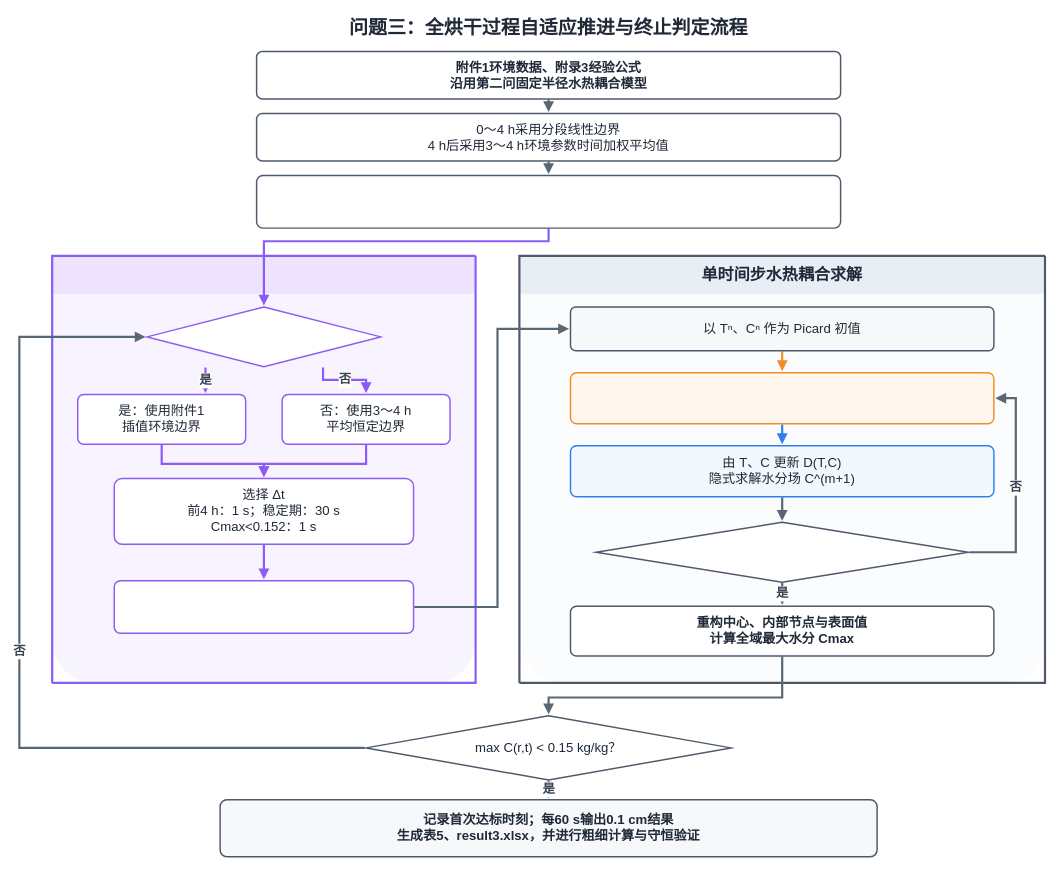
Image size: 1059x869. Some labels were removed from this diagram. The shapes that lost their labels are listed below. From the top down, each one's centre as x and y in pixels, then its label:
the point at 548,201: 生成表面加密有限体积网格 初始化温度场、水分场及 Cmax=2.55 kg/kg
the point at 263,274: 边界条件与自适应时间步
the point at 263,336: 当前时间 t ≤ 4 h？
the point at 781,398: 由 C 更新热物性 隐式求解温度场 T^(m+1)
the point at 782,552: 温度和水分是否同时收敛？
the point at 263,607: 对齐4 h切换点 及每个60 s输出时刻
